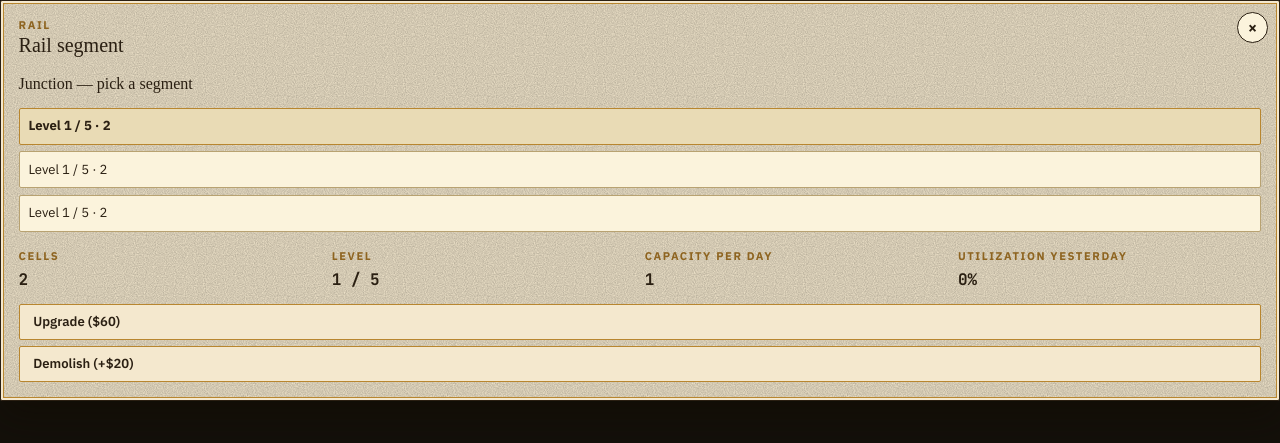
RailSegmentInspector › disables the demolish button when all cells are shared junctions
Select the junction-to-junction segment in the picker.
Click the 3rd button "Level 1 / 5 · 2": [68, 213] box [19,195,1261,232]
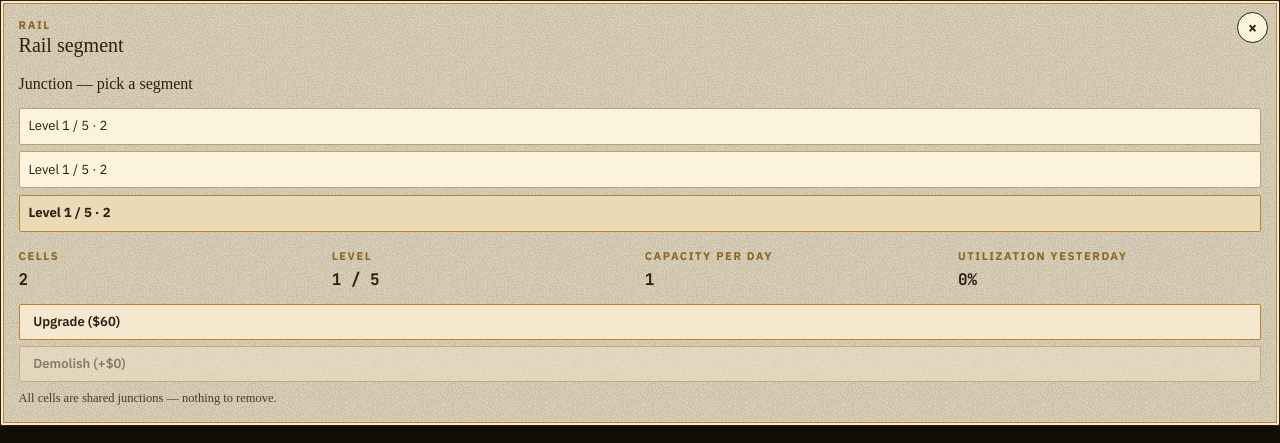
Expected: the button "Demolish (+$0)" is disabled, [19,346,1261,382]
Expected: the text "All cells are shared junctions — nothing to remove." is shown, [19,391,277,405]
